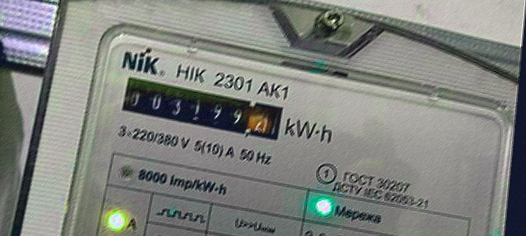0: (128, 87, 143, 107), (151, 90, 164, 110)
1: (193, 95, 204, 115)
3: (172, 96, 183, 116)
6: (253, 118, 265, 135)
9: (232, 107, 244, 126), (213, 101, 223, 120)
screen: (115, 71, 293, 148)
